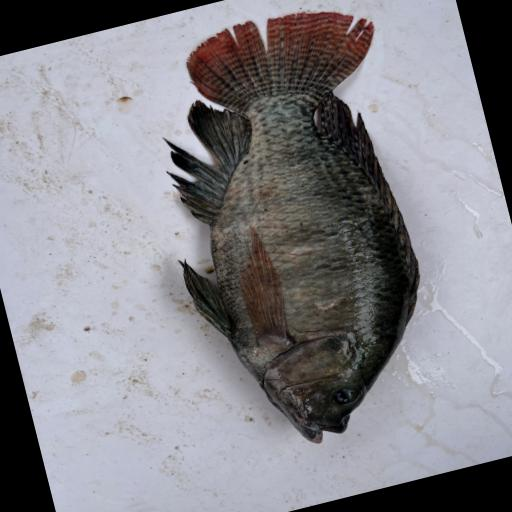Tilapia: (126, 0, 470, 466)
